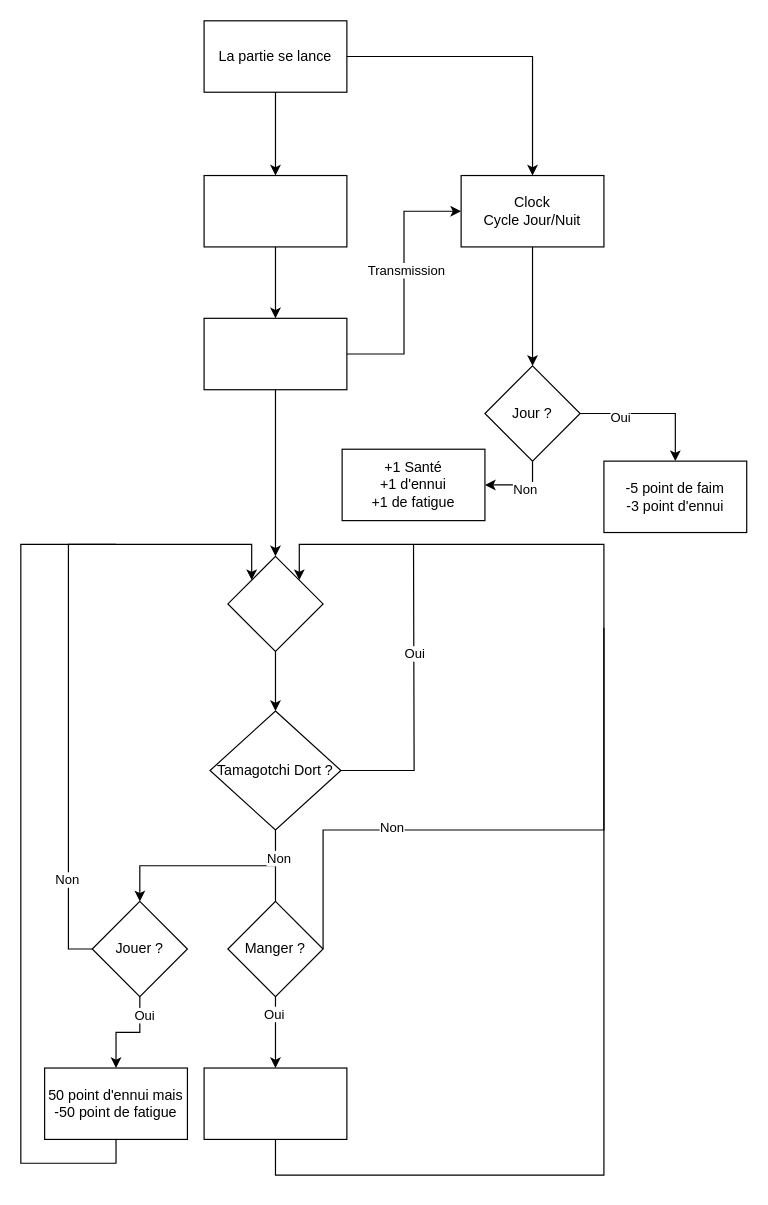
This 768x1205 diagram has some shape labels left out. Each missing label, with the centre of its shape:
"Action ?" goes at pixel 275 603.
"Définition du temps de Sommeil de chaque Tamagotchi" goes at pixel 275 353.
"Initialisation des Tamagotchis" goes at pixel 275 210.
"Le tamagotchi gagne 50 point de faim et le joueur perd un biscuit" goes at pixel 275 1103.
